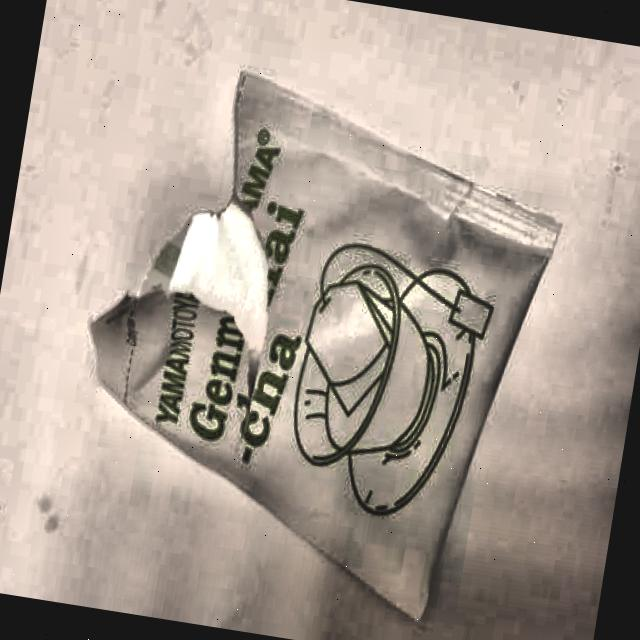trash: (111, 81, 545, 568)
